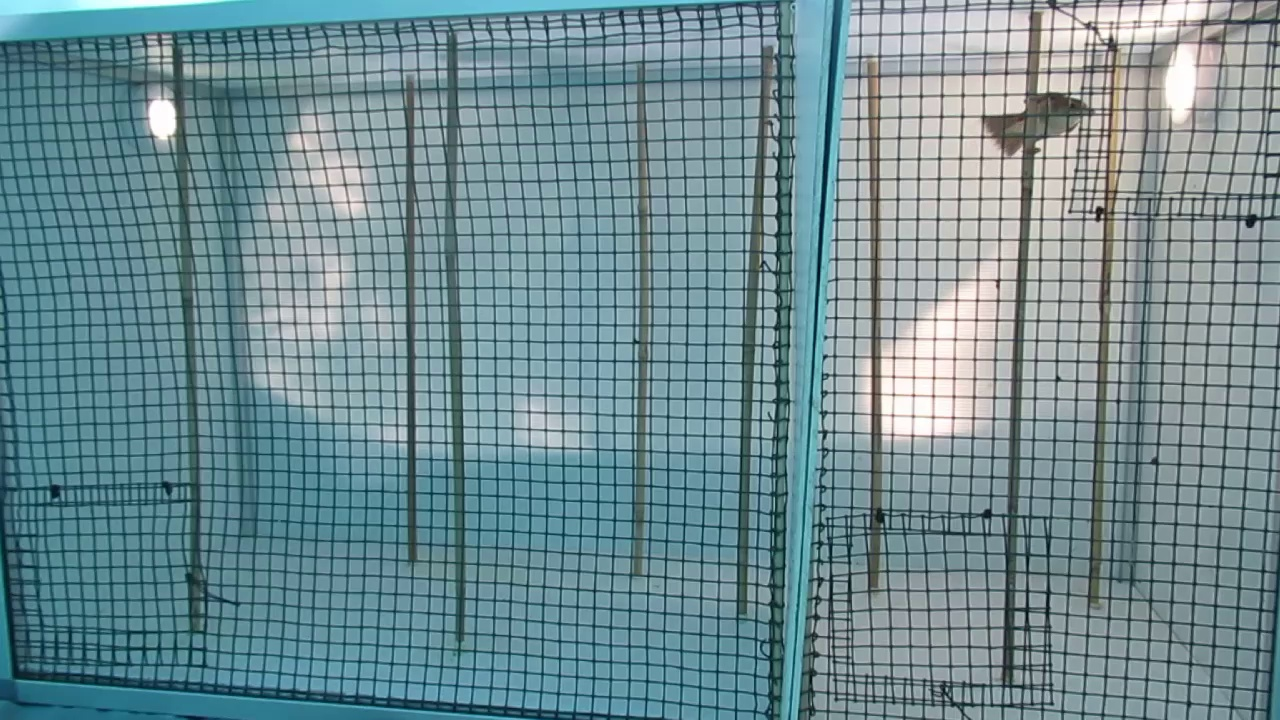bird: (982, 92, 1095, 160)
stick: (1002, 13, 1044, 684), (733, 46, 777, 617), (1089, 45, 1128, 605), (170, 49, 204, 630), (442, 36, 465, 642), (401, 78, 421, 564), (866, 59, 883, 588), (634, 62, 649, 577)
